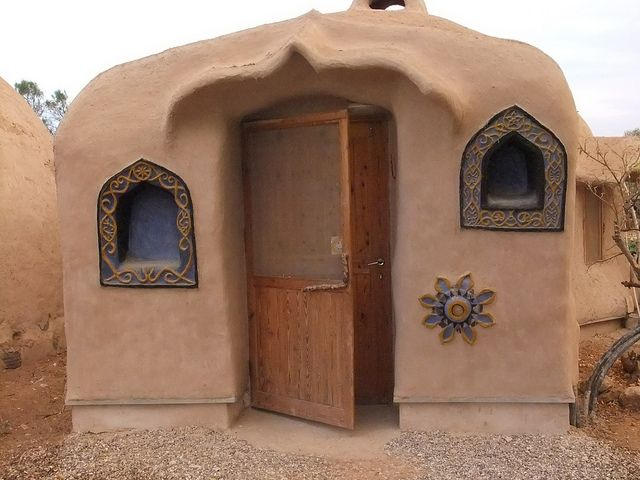Mud House: (48, 1, 609, 454)
